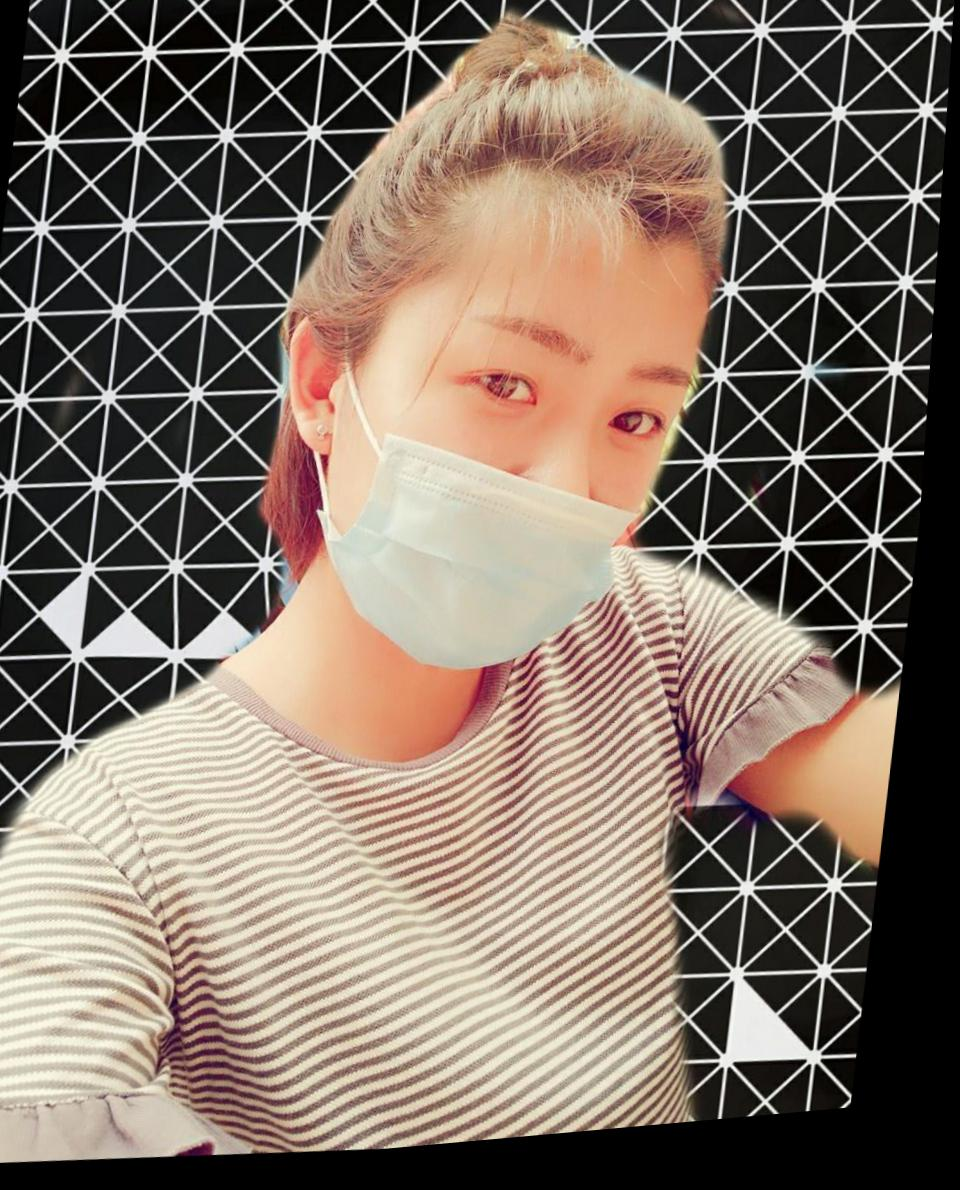WRONG: (315, 284, 709, 685)
